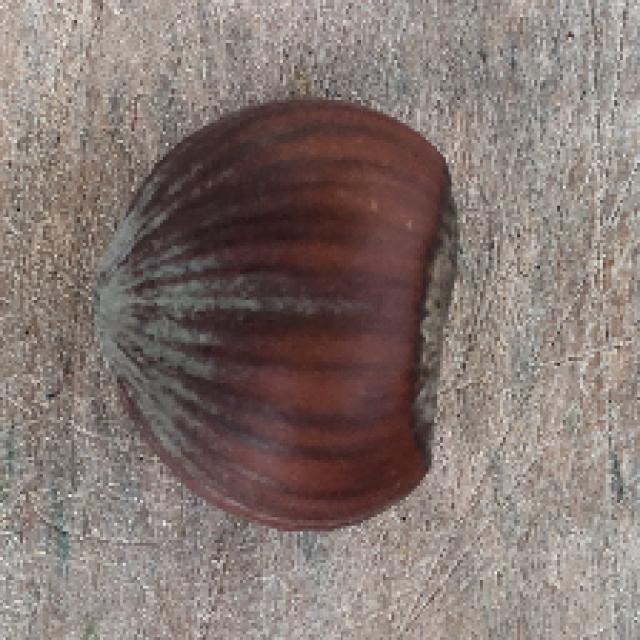DamagedHazelnut: (90, 93, 468, 536)
